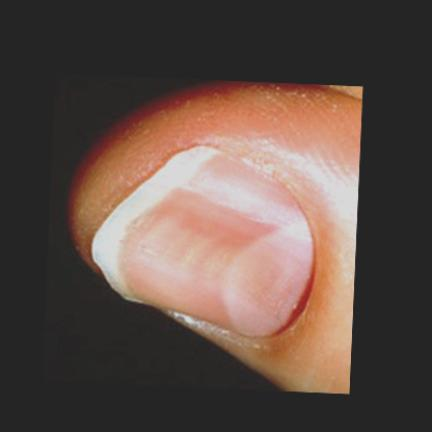Nail: (91, 144, 316, 340)
